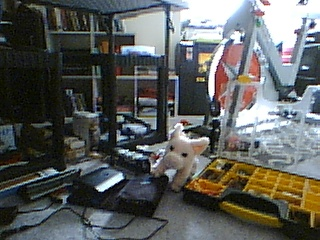piggy: (148, 122, 210, 193)
